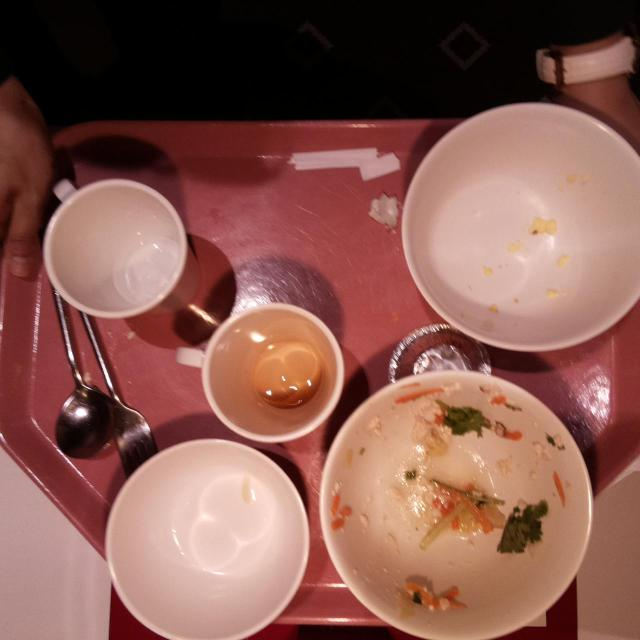Vegetable: (498, 502, 547, 556), (441, 405, 489, 438)
